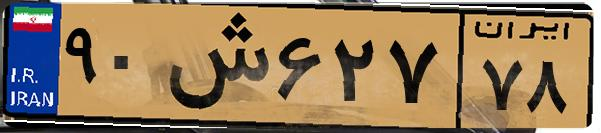0: (110, 28, 158, 98)
2: (330, 28, 385, 110)
6: (270, 28, 330, 110)
7: (385, 28, 445, 110), (475, 38, 525, 113)
8: (525, 38, 570, 115)
9: (57, 26, 110, 100)
ش: (158, 12, 270, 120)
